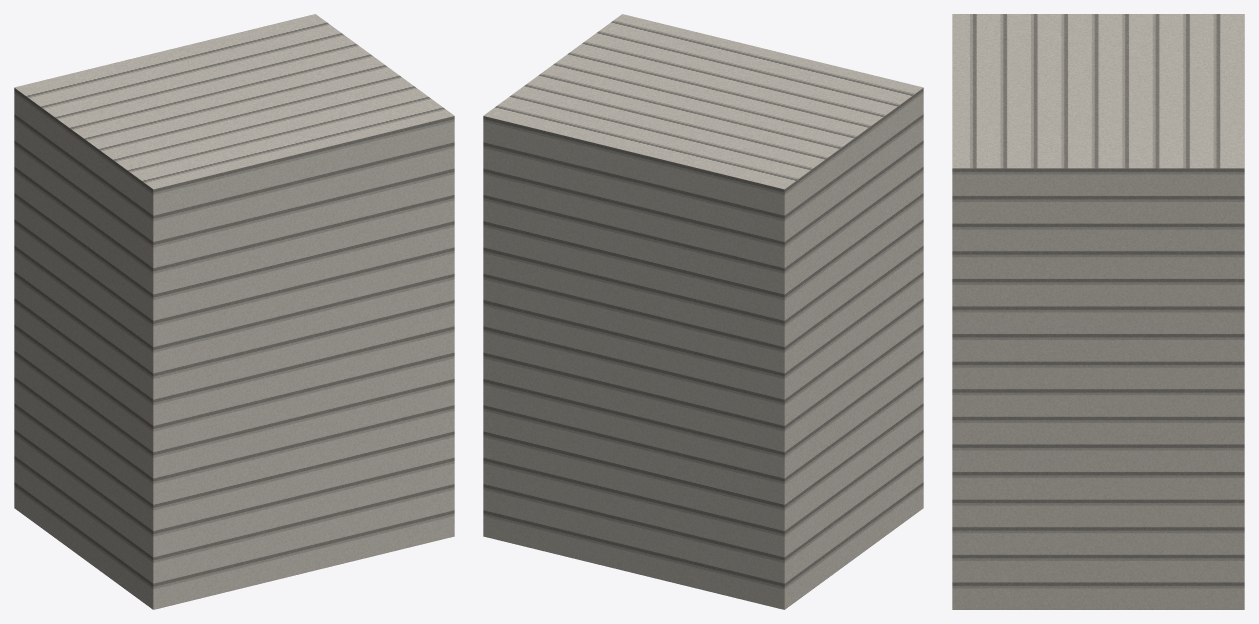
The model's file is engine_hoist.glb.
The picture shows the model from 3 angles, left to right: view 1: azimuth 30°, elevation 25°; view 2: azimuth 150°, elevation 25°; view 3: azimuth 270°, elevation 25°; orthographic projection. The views are drawn at different scales.
Parts seen in each view (by area): view 1: engine_hoist-col; view 2: engine_hoist-col; view 3: engine_hoist-col.
Part boxes in pixels (x1=…): engine_hoist-col: x1=14, y1=14, x2=454, y2=609; engine_hoist-col: x1=483, y1=14, x2=923, y2=609; engine_hoist-col: x1=952, y1=14, x2=1244, y2=609.
Size of the model in its own units: 1.5 by 2 by 1.2.
1 material, 1 textured.
